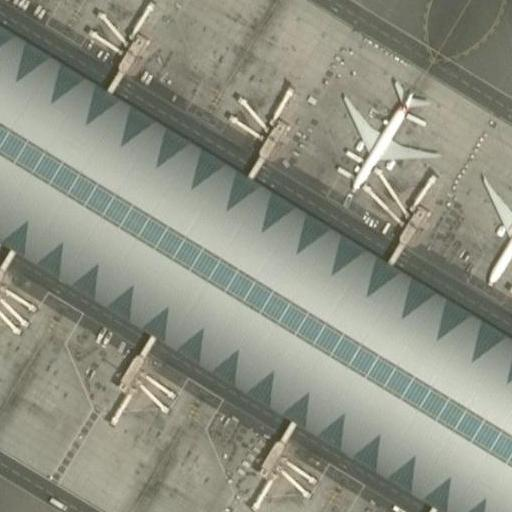Aircraft: (325, 80, 443, 200), (464, 156, 512, 294)
